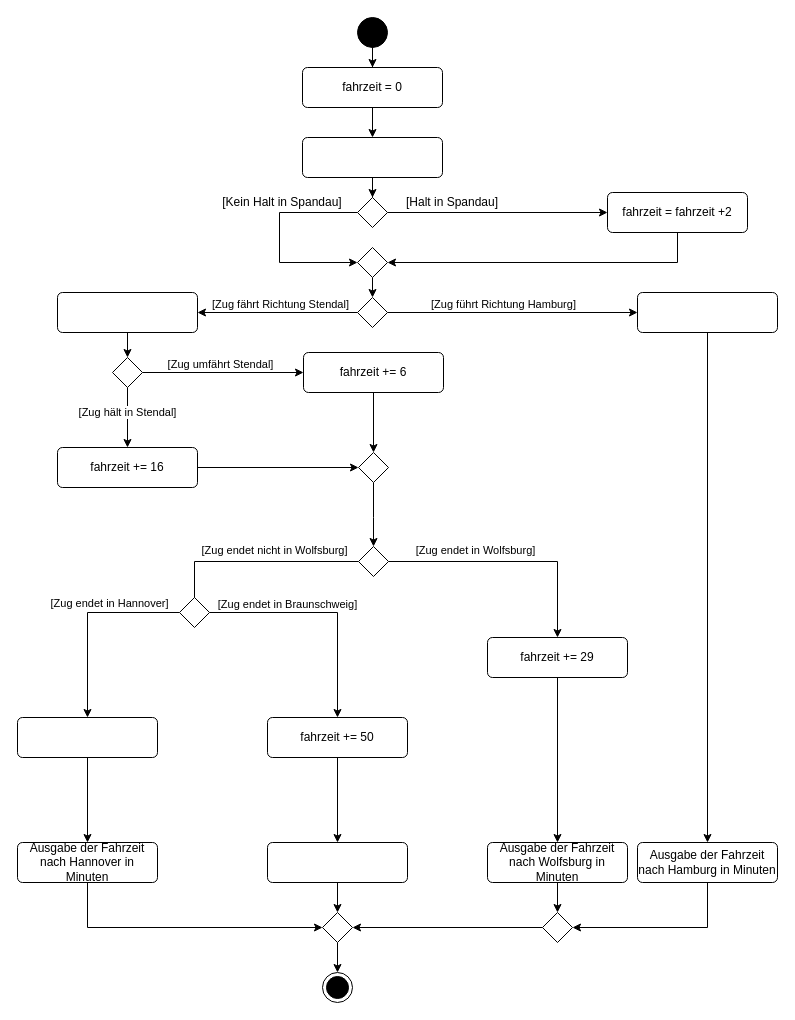
The diagram is 795 pixels wide and 1020 high, and some of its shapes have lost their labels. The box of each missing label's shape, as (x1, y1, x2, y2) in pixels:
Ausgabe der Fahrzeit nach Braunschweig in Minuten: (266, 842, 408, 882)
fahrzeit += 62: (16, 716, 158, 758)
fahrzeit = fahrzeit + 34: (56, 292, 198, 332)
fahrzeit = fahrzeit + 8: (302, 136, 442, 178)
fahrzeit = fahrzeit + 96: (636, 292, 778, 332)
